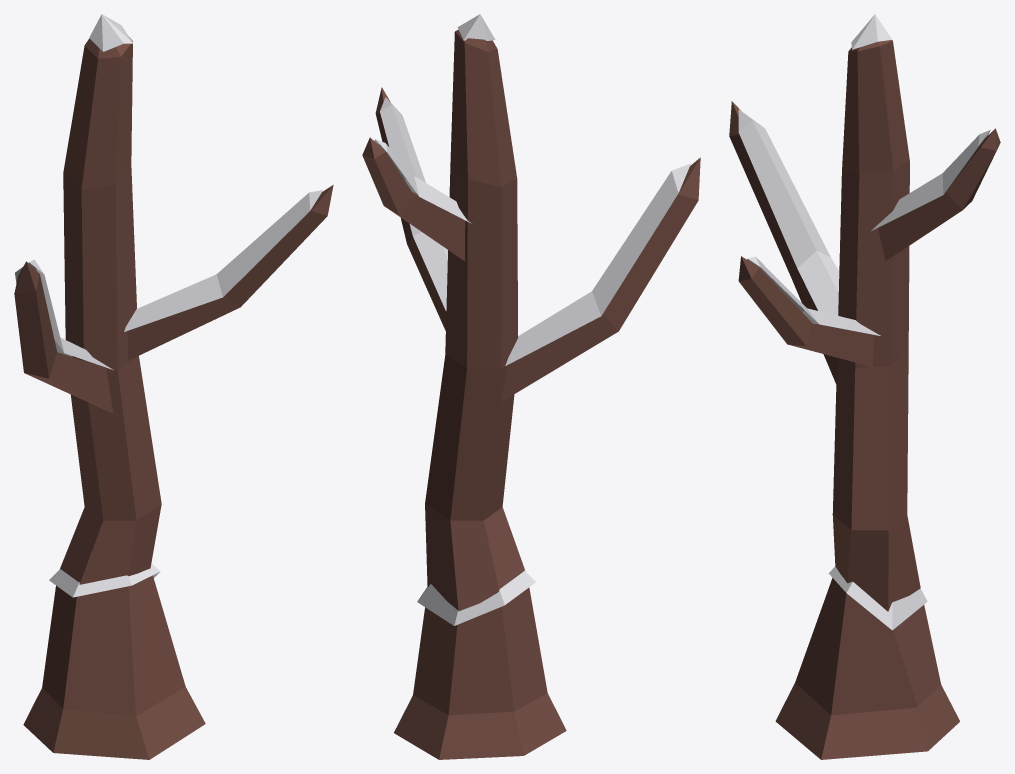
The model's file is Tree02.fbx.
3 renders of one model, left to right at view 1: azimuth 30°, elevation 25°; view 2: azimuth 150°, elevation 25°; view 3: azimuth 270°, elevation 25°, orthographic.
Parts seen in each view (by area): view 1: Tree02_Stem, Tree02_Stump, Tree02_Stump_Snow; view 2: Tree02_Stem, Tree02_Stump, Tree02_Stump_Snow; view 3: Tree02_Stem, Tree02_Stump, Tree02_Stump_Snow.
Boxes of the visible parts, left/top/right/bottom form: Tree02_Stem: left=14, top=14, right=333, bottom=584; Tree02_Stump: left=23, top=568, right=205, bottom=759; Tree02_Stump_Snow: left=49, top=563, right=160, bottom=597; Tree02_Stem: left=362, top=14, right=700, bottom=611; Tree02_Stump: left=394, top=587, right=566, bottom=759; Tree02_Stump_Snow: left=417, top=570, right=535, bottom=625; Tree02_Stem: left=729, top=14, right=1000, bottom=611; Tree02_Stump: left=775, top=578, right=959, bottom=759; Tree02_Stump_Snow: left=828, top=566, right=927, bottom=630.
Size of the model in its own units: 1.78 by 3.79 by 1.32.
1 material, 1 textured.
